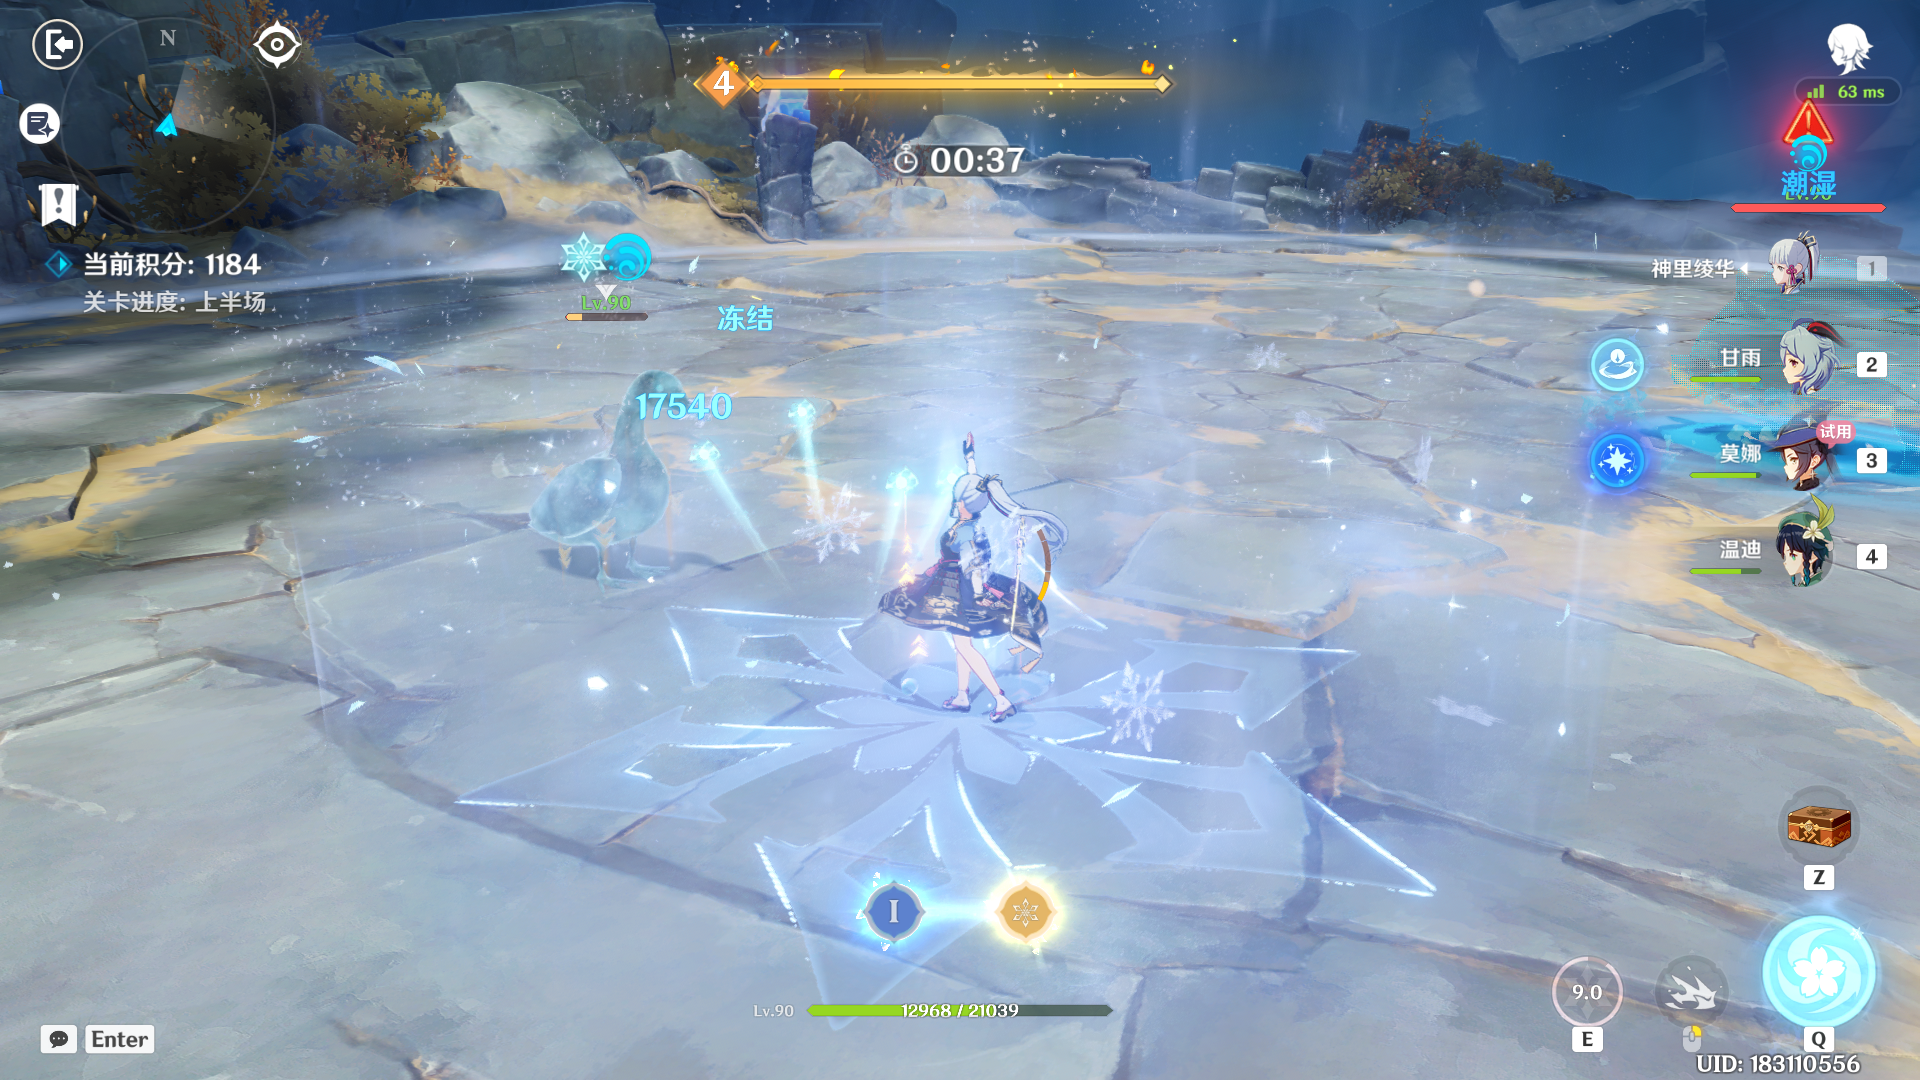character: (880, 435, 1093, 753)
